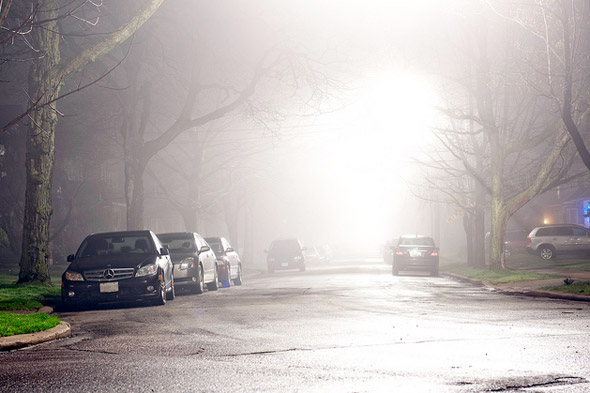car: (54, 230, 175, 309), (157, 231, 217, 294), (525, 224, 589, 262), (389, 234, 439, 275), (205, 236, 241, 286), (265, 237, 305, 273), (301, 242, 322, 268), (385, 236, 397, 260)
